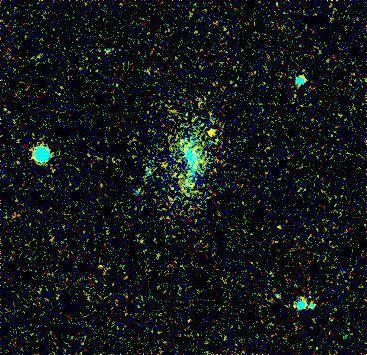star: (195, 118, 225, 148)
